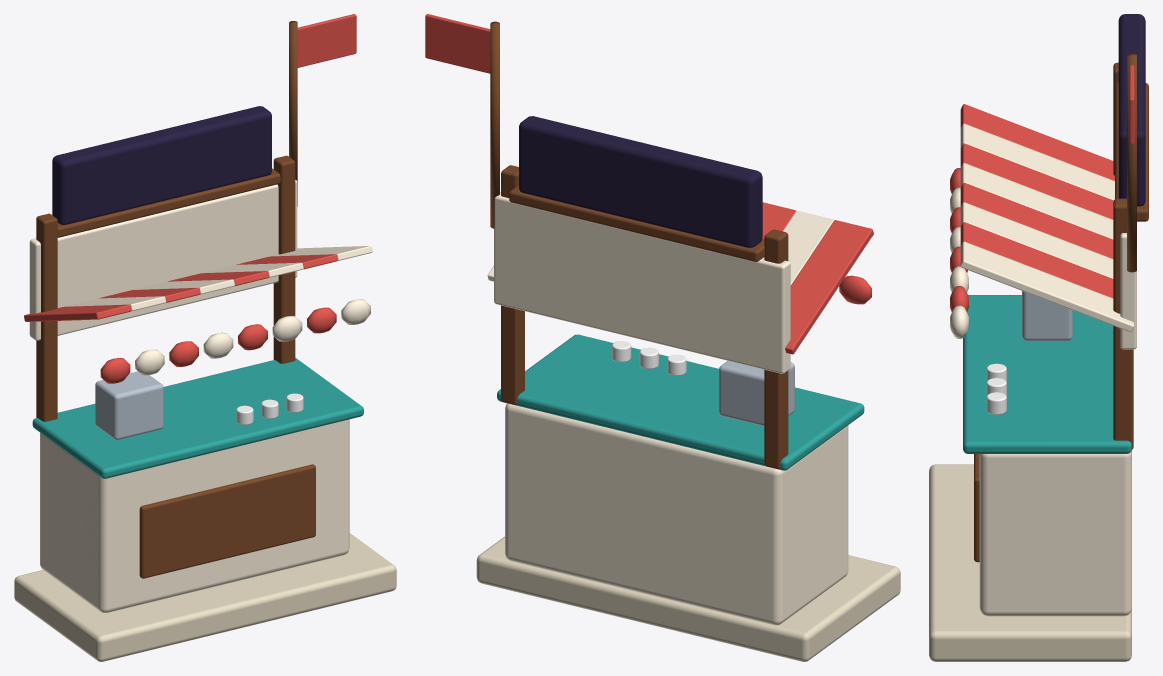
The model's file is cafe_stand.glb.
3 views of the same model, side by side, from view 1: azimuth 30°, elevation 25°; view 2: azimuth 150°, elevation 25°; view 3: azimuth 270°, elevation 25° (orthographic). The views are drawn at different scales.
Parts seen in each view (by area): view 1: cafe_stand; view 2: cafe_stand; view 3: cafe_stand.
Part boxes in pixels (x1,y1,x2,y2): cafe_stand: (14, 14, 396, 661); cafe_stand: (425, 14, 900, 661); cafe_stand: (929, 14, 1148, 661).
Size of the model in its own units: 2.75 by 3.9 by 1.3.
